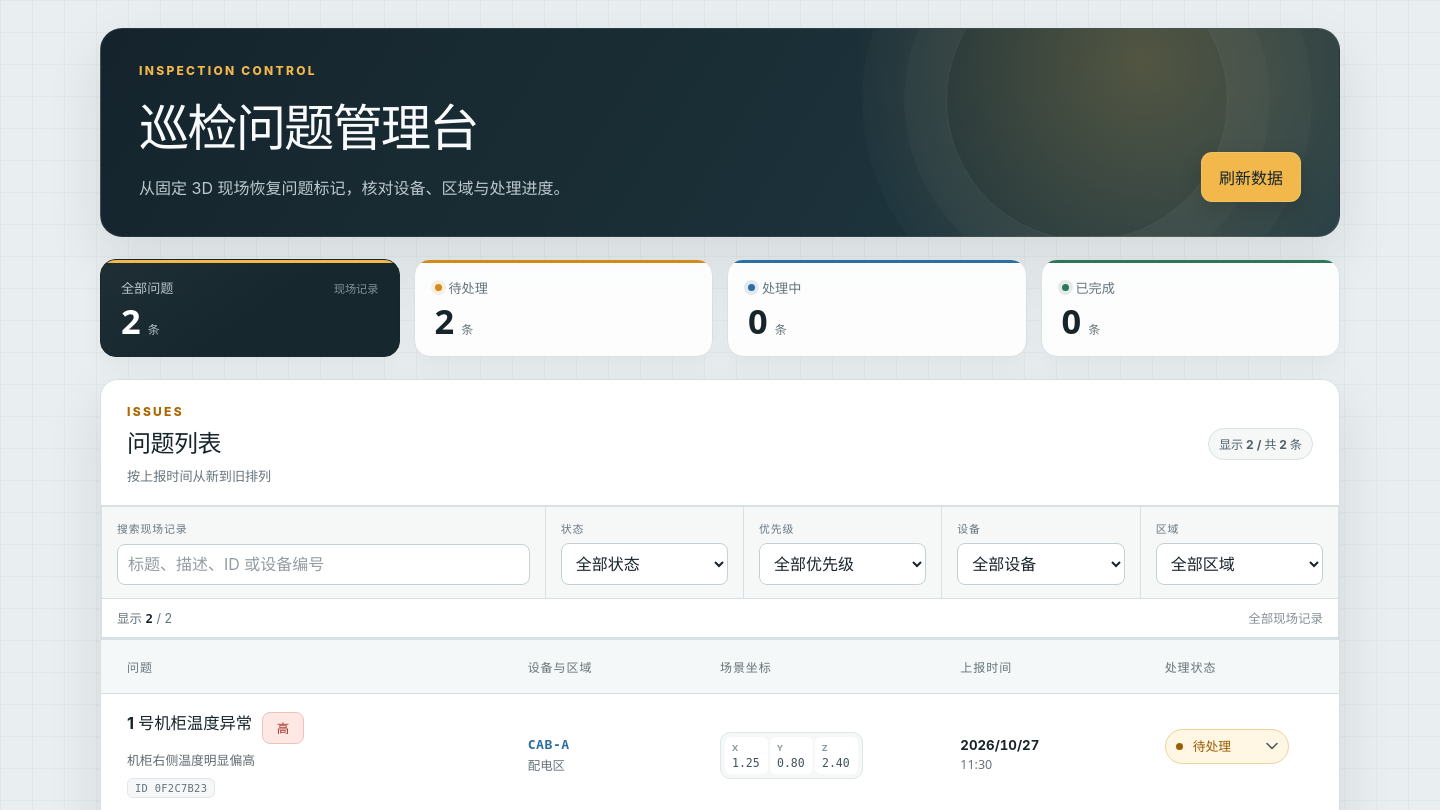
Test: inspection issue dashboard › filters by device and opens a complete detail view
Check: the button "1 号机柜温度异常" is shown, box [127,712,252,734]
Select "BOX-01" in the dropdown labelled "设备" at [1041, 564], box [957,543,1125,585]
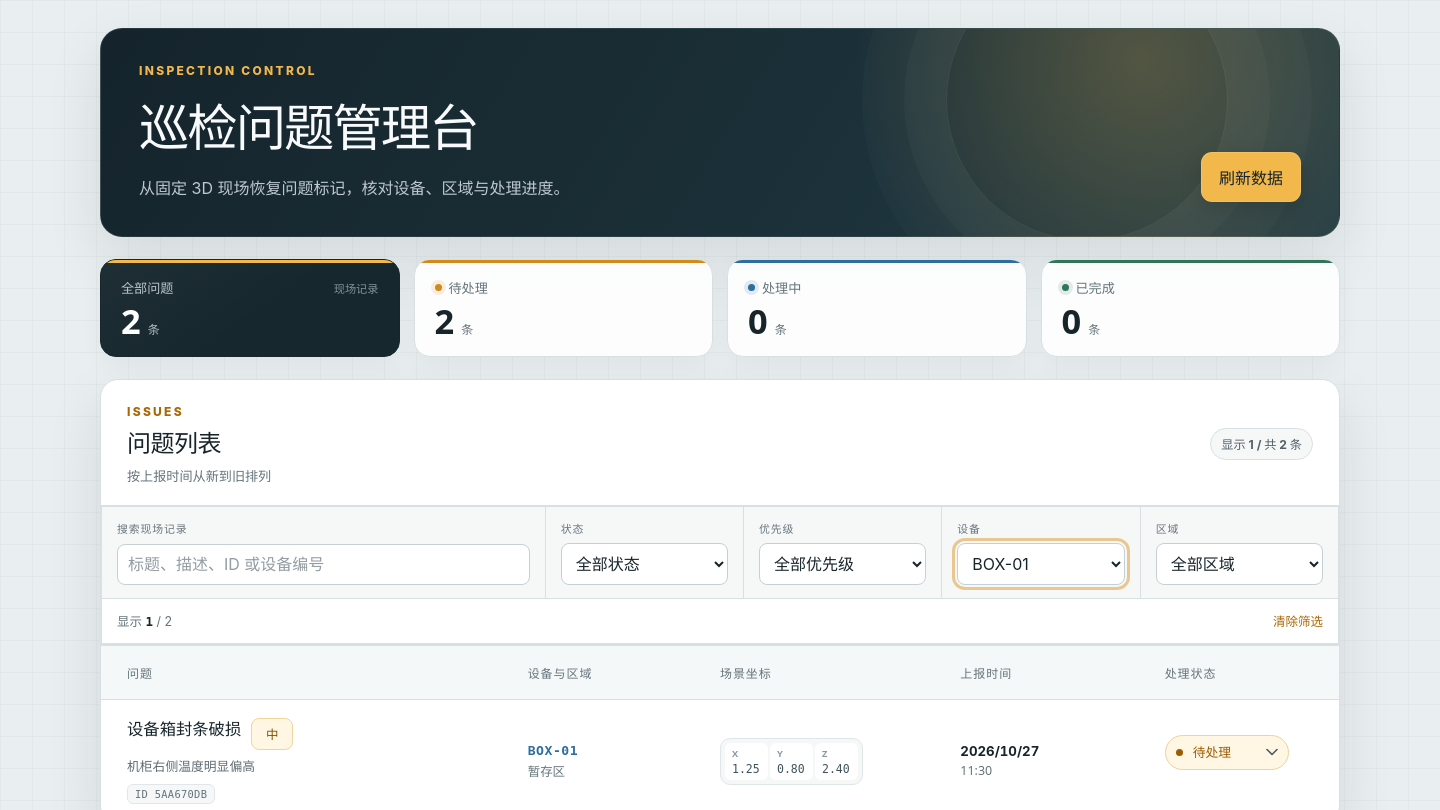
Check: the button "1 号机柜温度异常" is gone
Click the button "设备箱封条破损".
click(184, 729)  # box [127,718,241,740]
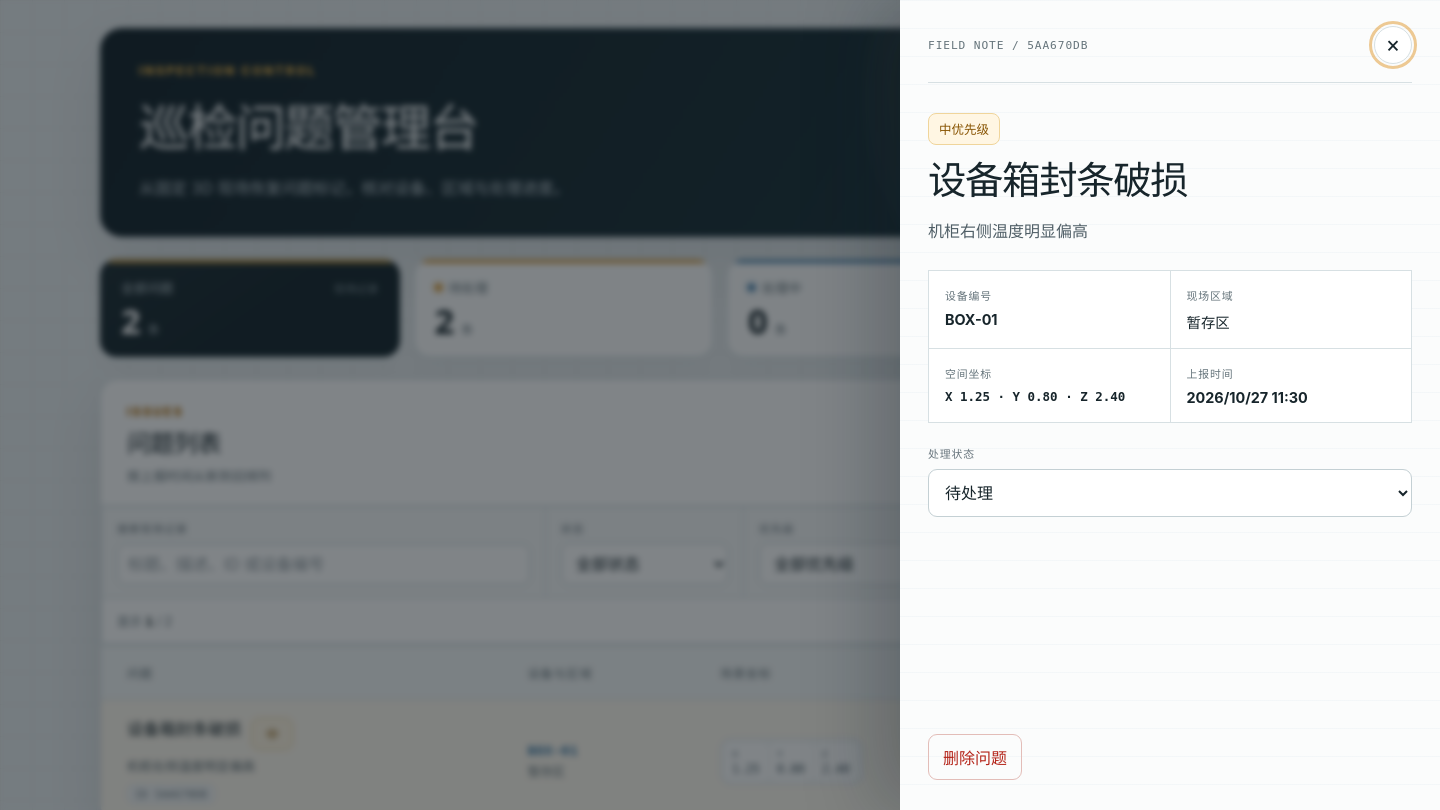
Check: the dialog shows "设备箱封条破损", box [928,159,1187,202]
Check: the dialog shows "BOX-01", box [945,310,998,328]
Check: the dialog shows "暂存区", box [1186,314,1230,330]
